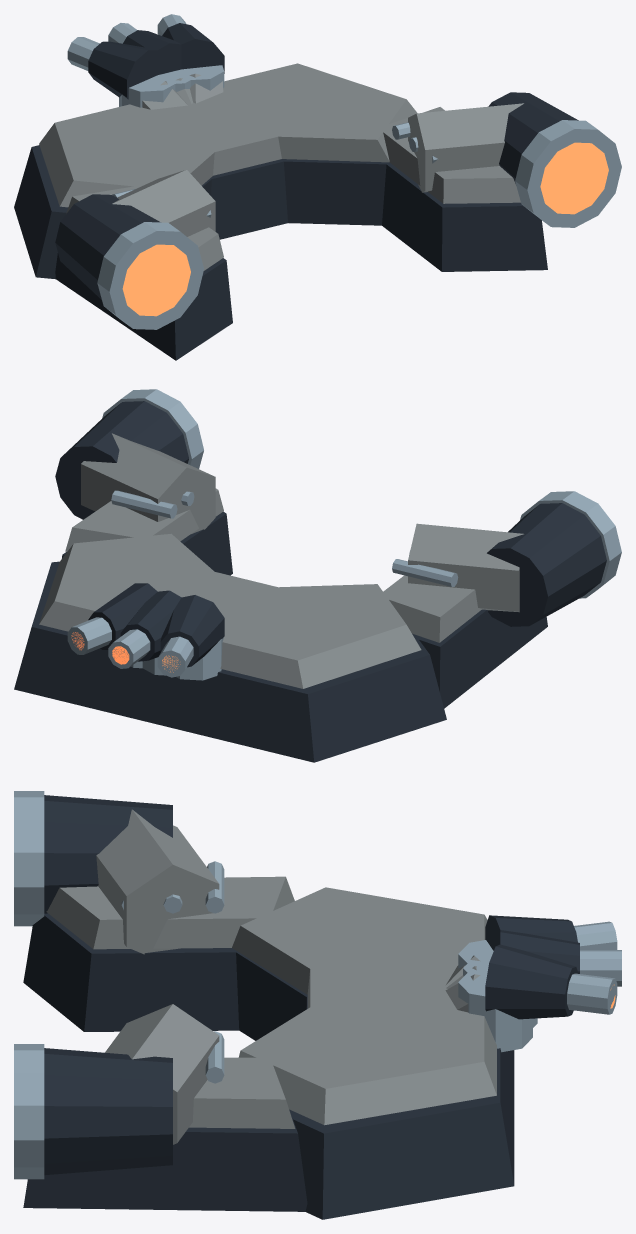
The model's file is c3_ufofast.glb.
The picture shows the model from 3 angles, top to bottom: view 1: azimuth 30°, elevation 25°; view 2: azimuth 150°, elevation 25°; view 3: azimuth 270°, elevation 25°; orthographic projection. The views are drawn at different scales.
Parts seen in each view (by area): view 1: ufofast / Chassis, ufofast / Armor, ufofast / Titanium, ufofast / Energy; view 2: ufofast / Chassis, ufofast / Armor, ufofast / Titanium, ufofast / Energy; view 3: ufofast / Chassis, ufofast / Armor, ufofast / Titanium.
Boxes of the visible parts, <box> form: ufofast / Chassis: <box>14,23,578,360</box>; ufofast / Armor: <box>39,63,523,270</box>; ufofast / Titanium: <box>67,14,621,329</box>; ufofast / Energy: <box>122,142,608,316</box>; ufofast / Chassis: <box>14,401,606,762</box>; ufofast / Armor: <box>39,433,523,688</box>; ufofast / Titanium: <box>67,389,621,680</box>; ufofast / Energy: <box>71,632,180,672</box>; ufofast / Chassis: <box>23,795,579,1219</box>; ufofast / Armor: <box>46,809,496,1144</box>; ufofast / Titanium: <box>14,791,621,1179</box>.
Size of the model in its own units: 1.57 by 0.405 by 1.3.
